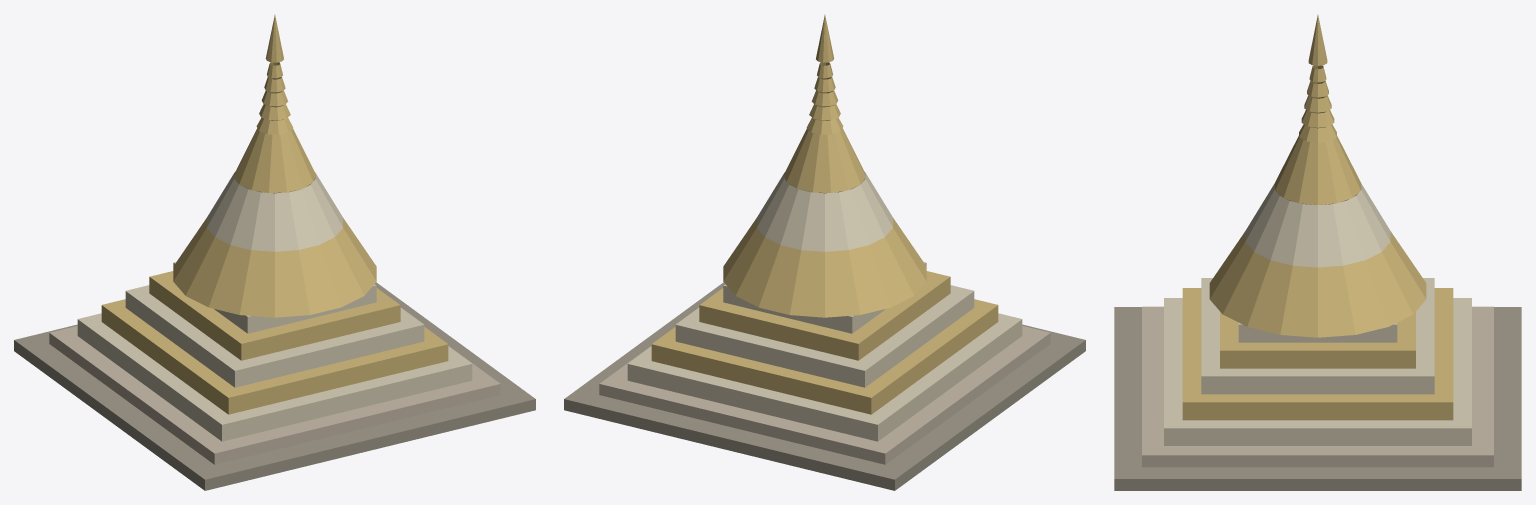
File: shwesandaw.glb
3 renders of one model, left to right at view 1: azimuth 30°, elevation 25°; view 2: azimuth 150°, elevation 25°; view 3: azimuth 270°, elevation 25°, orthographic. The views are drawn at different scales.
Bounding box in the file's own units: 3.7 × 3.92 × 3.7.
